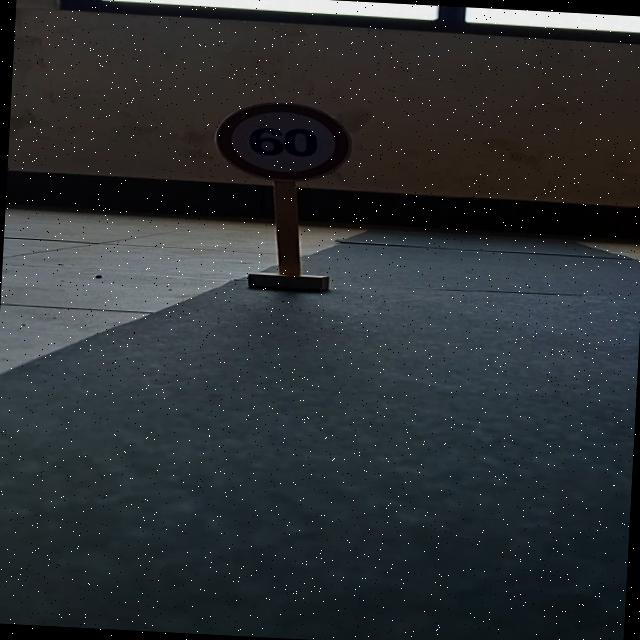Speed60: (210, 100, 350, 186)
